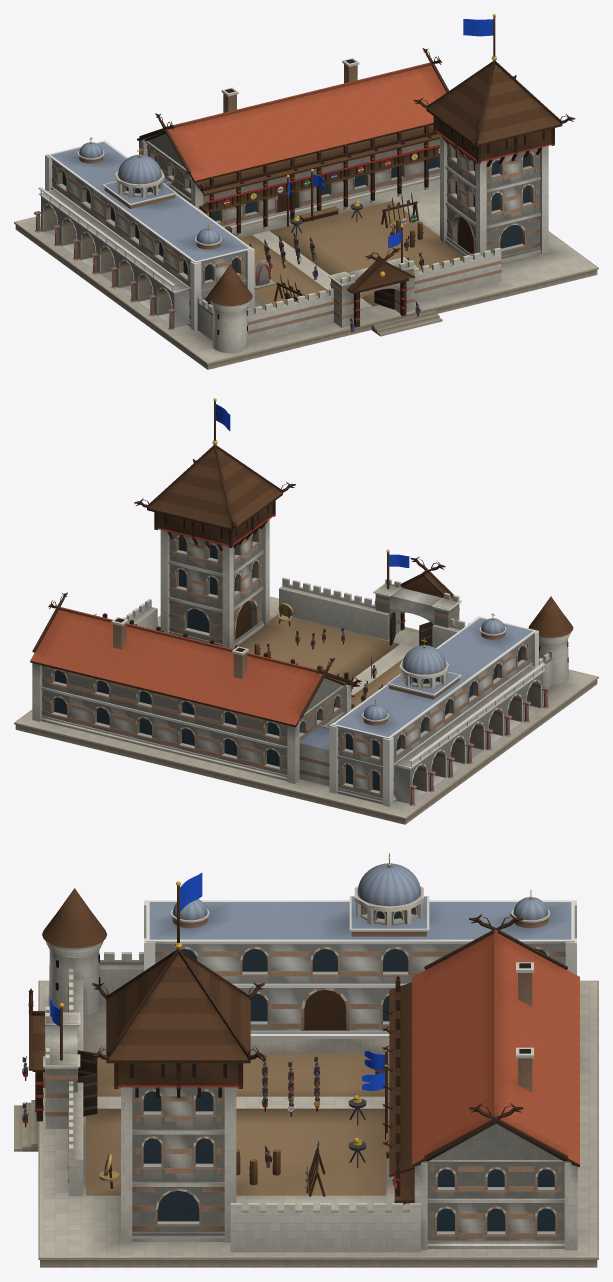
The model's file is lm_varangkisla.glb.
3 renders of one model, top to bottom at view 1: azimuth 30°, elevation 25°; view 2: azimuth 150°, elevation 25°; view 3: azimuth 270°, elevation 25°, orthographic. The views are drawn at different scales.
Visible parts, largest first — view 1: lm_varangkisla; view 2: lm_varangkisla; view 3: lm_varangkisla.
Boxes of the visible parts, box(x1,y1,x2,y2) form: lm_varangkisla: box(14, 14, 598, 369); lm_varangkisla: box(14, 398, 598, 824); lm_varangkisla: box(14, 853, 598, 1267).
Bounding box in the file's own units: 2.27 × 1.33 × 2.03.
Materials: 1 (1 with a texture image).
